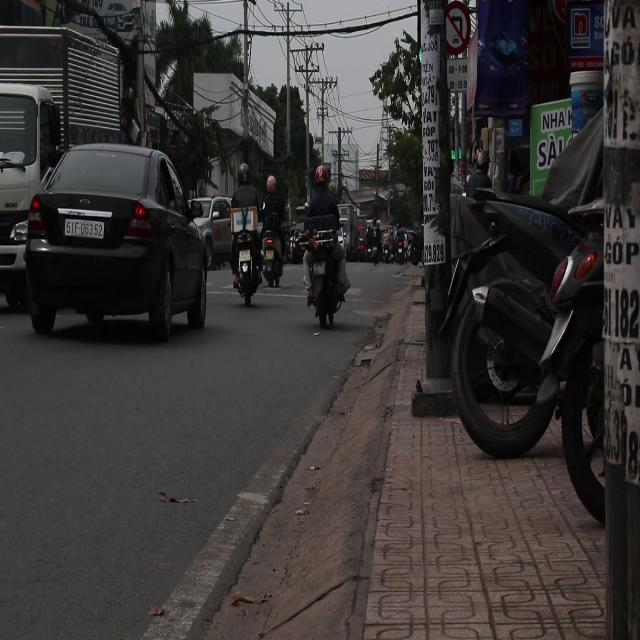bus: (0, 19, 140, 301)
car: (26, 142, 213, 342), (191, 196, 234, 269)
motorbike: (299, 211, 355, 346), (254, 194, 291, 292), (230, 225, 266, 304)
